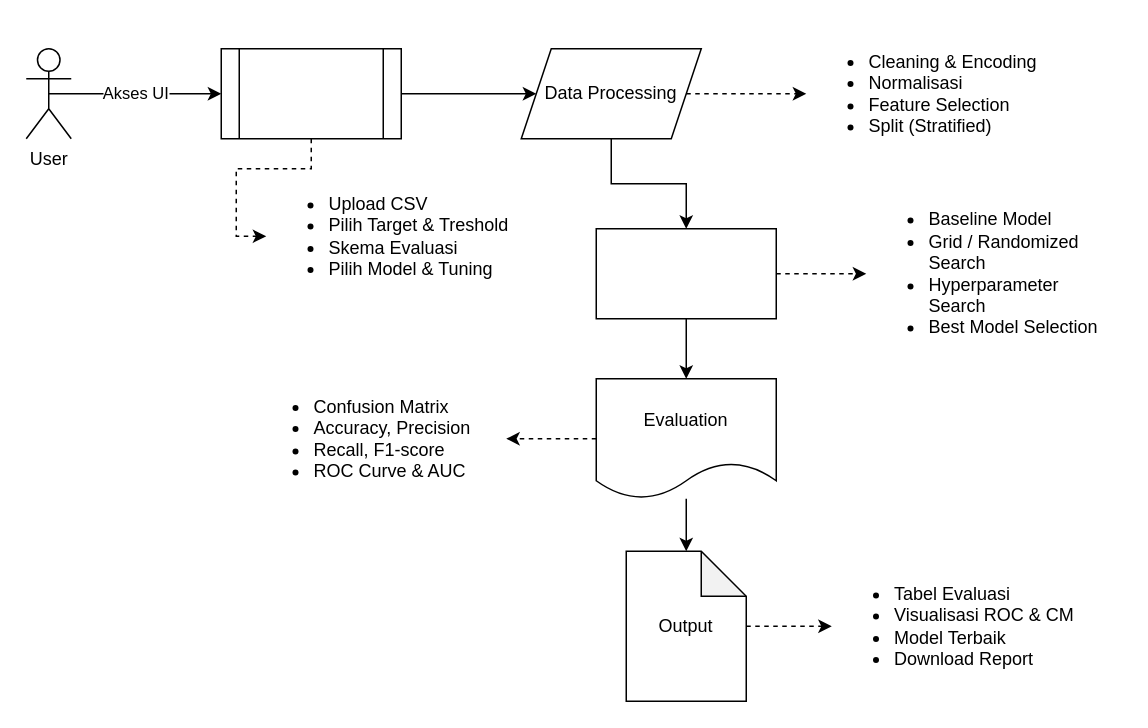
Image size: 1148x728. Some labels were removed from this diagram. The centre of each missing label's shape, as x and y in pixels:
Model & Tuning: (685,273)
Upload Data & Konfigurasi: (310,93)
